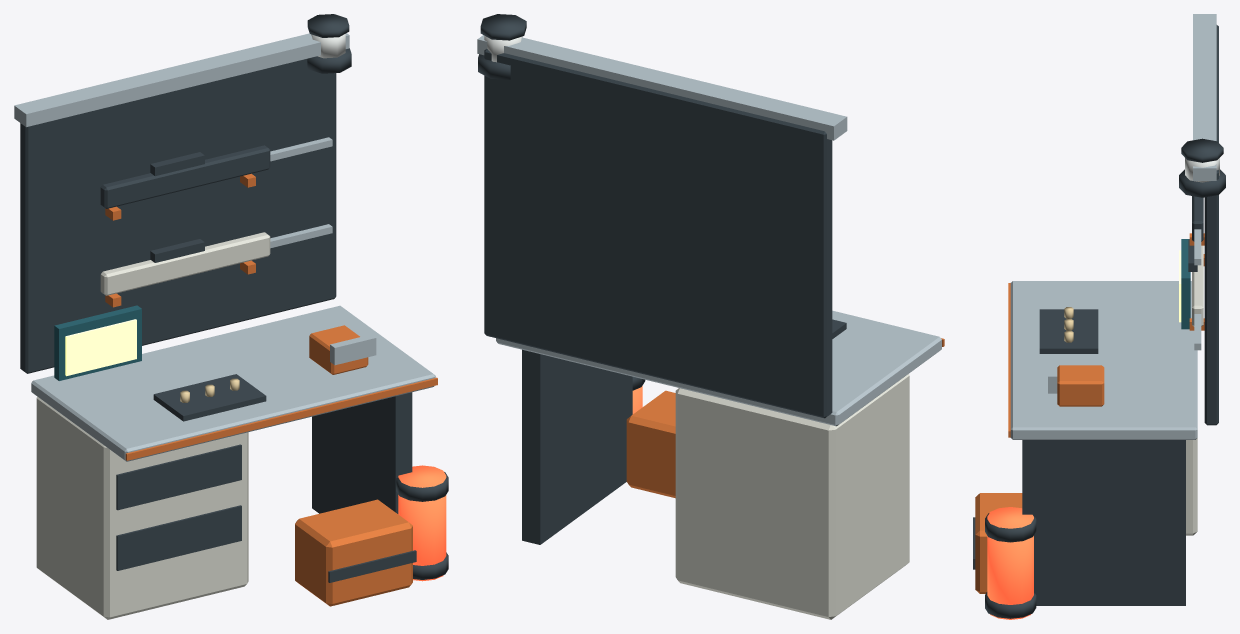
File: armory.glb
3 renders of one model, left to right at view 1: azimuth 30°, elevation 25°; view 2: azimuth 150°, elevation 25°; view 3: azimuth 270°, elevation 25°, orthographic. The views are drawn at different scales.
Parts seen in each view (by area): view 1: Bench, Lamp; view 2: Bench, Lamp; view 3: Bench, Lamp.
Part boxes in pixels (x1,y1,x2,y2): Bench: [14, 33, 448, 619]; Lamp: [307, 14, 351, 73]; Bench: [477, 35, 944, 619]; Lamp: [478, 14, 526, 79]; Bench: [973, 14, 1218, 619]; Lamp: [1179, 138, 1225, 197].
Size of the model in its own units: 1.58 by 2.19 by 1.08.
